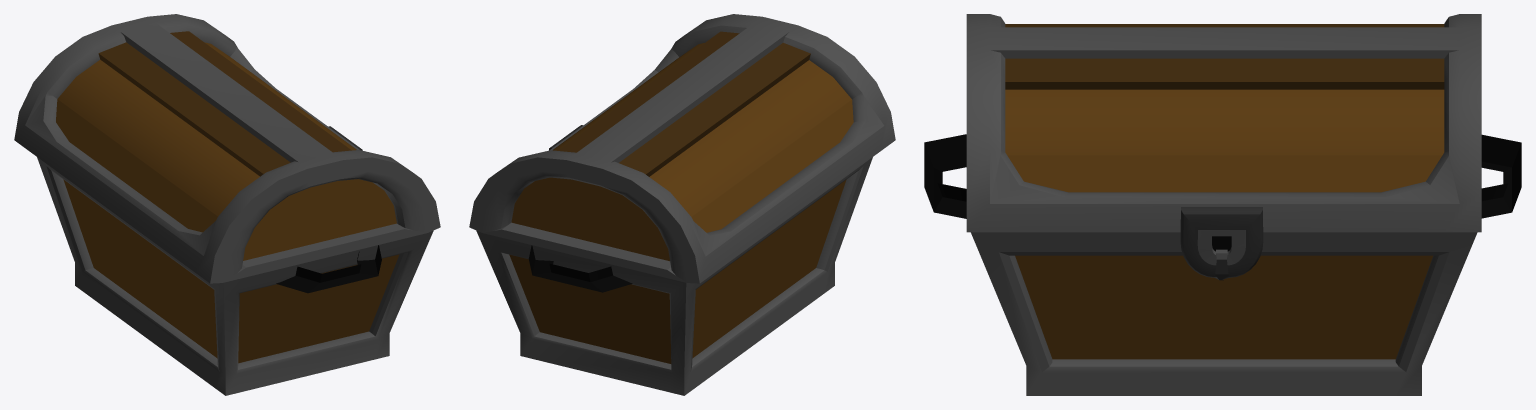
The model's file is heavyObject.fbx.
3 renders of one model, left to right at view 1: azimuth 30°, elevation 25°; view 2: azimuth 150°, elevation 25°; view 3: azimuth 270°, elevation 25°, orthographic. The views are drawn at different scales.
Visible parts, largest first — view 1: Plane.017, Plane.018; view 2: Plane.017, Plane.018; view 3: Plane.017, Plane.018, Plane.015, Plane.019, Plane.020.
Part boxes in pixels (box(x1,y1,x2,y2)): Plane.017: box(14, 14, 440, 395); Plane.018: box(98, 31, 351, 176); Plane.017: box(469, 14, 895, 395); Plane.018: box(558, 31, 810, 176); Plane.017: box(924, 14, 1521, 395); Plane.018: box(1005, 24, 1444, 89); Plane.015: box(999, 232, 1449, 251); Plane.019: box(1180, 207, 1263, 280); Plane.020: box(1197, 230, 1245, 265).
Size of the model in its own units: 288 by 267 by 479.
